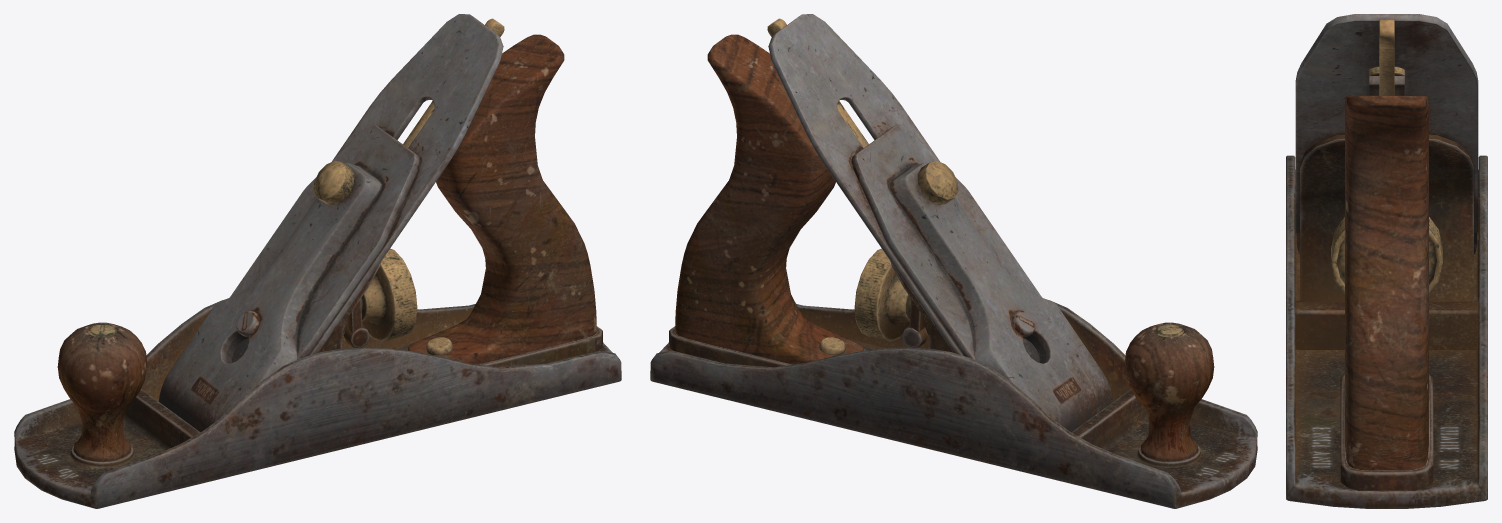
3 views of the same model, side by side, from view 1: azimuth 30°, elevation 25°; view 2: azimuth 150°, elevation 25°; view 3: azimuth 270°, elevation 25° (orthographic). The views are drawn at different scales.
Parts seen in each view (by area): view 1: hand_plane_no4; view 2: hand_plane_no4; view 3: hand_plane_no4.
Boxes of the visible parts, x1=… form: hand_plane_no4: x1=14, y1=14, x2=621, y2=508; hand_plane_no4: x1=650, y1=14, x2=1257, y2=508; hand_plane_no4: x1=1286, y1=14, x2=1487, y2=508.
Size of the model in its own units: 0.3308 by 0.1978 by 0.0843.
1 material, 1 textured.
